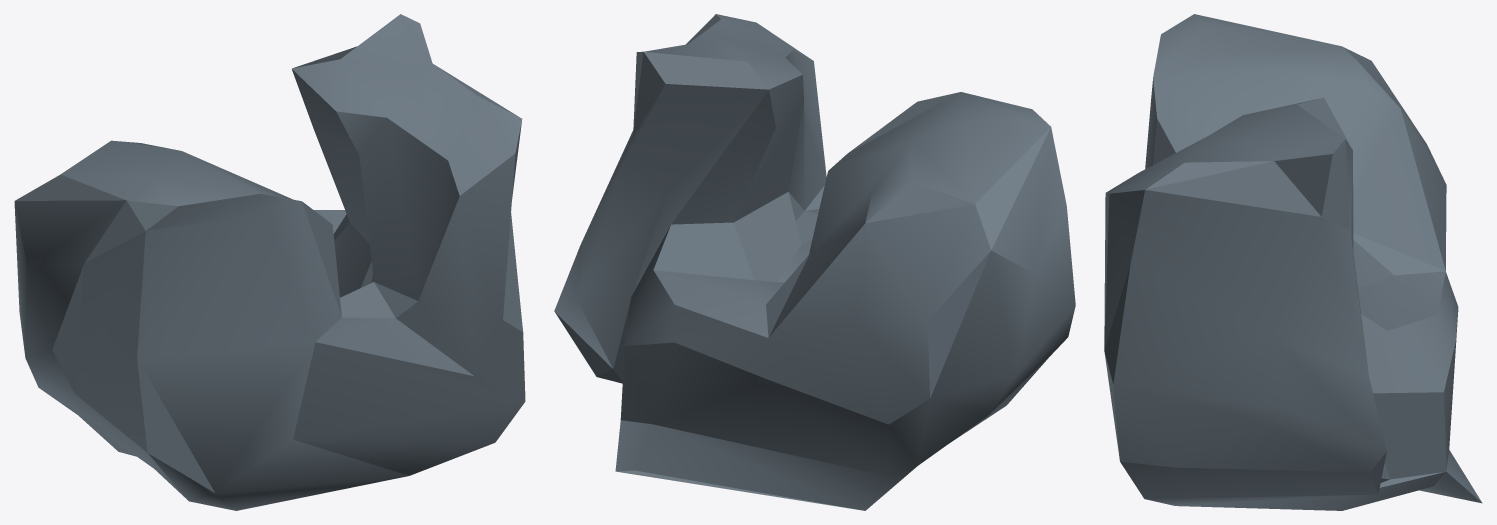
File: Roca_03.fbx
3 renders of one model, left to right at view 1: azimuth 30°, elevation 25°; view 2: azimuth 150°, elevation 25°; view 3: azimuth 270°, elevation 25°, orthographic. The views are drawn at different scales.
Visible parts, largest first — view 1: Roca_03; view 2: Roca_03; view 3: Roca_03.
Part boxes in pixels (x1=…): Roca_03: x1=14, y1=14, x2=525, y2=510; Roca_03: x1=554, y1=14, x2=1075, y2=510; Roca_03: x1=1104, y1=14, x2=1482, y2=510.
Bounding box in the file's own units: 3.76 × 3.08 × 2.58.
